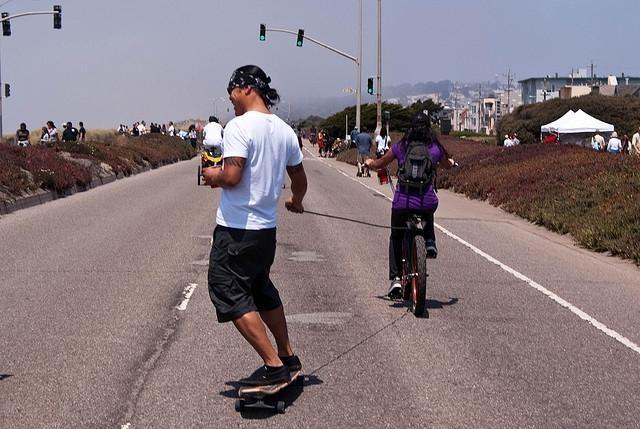bicycle: (362, 162, 459, 316)
